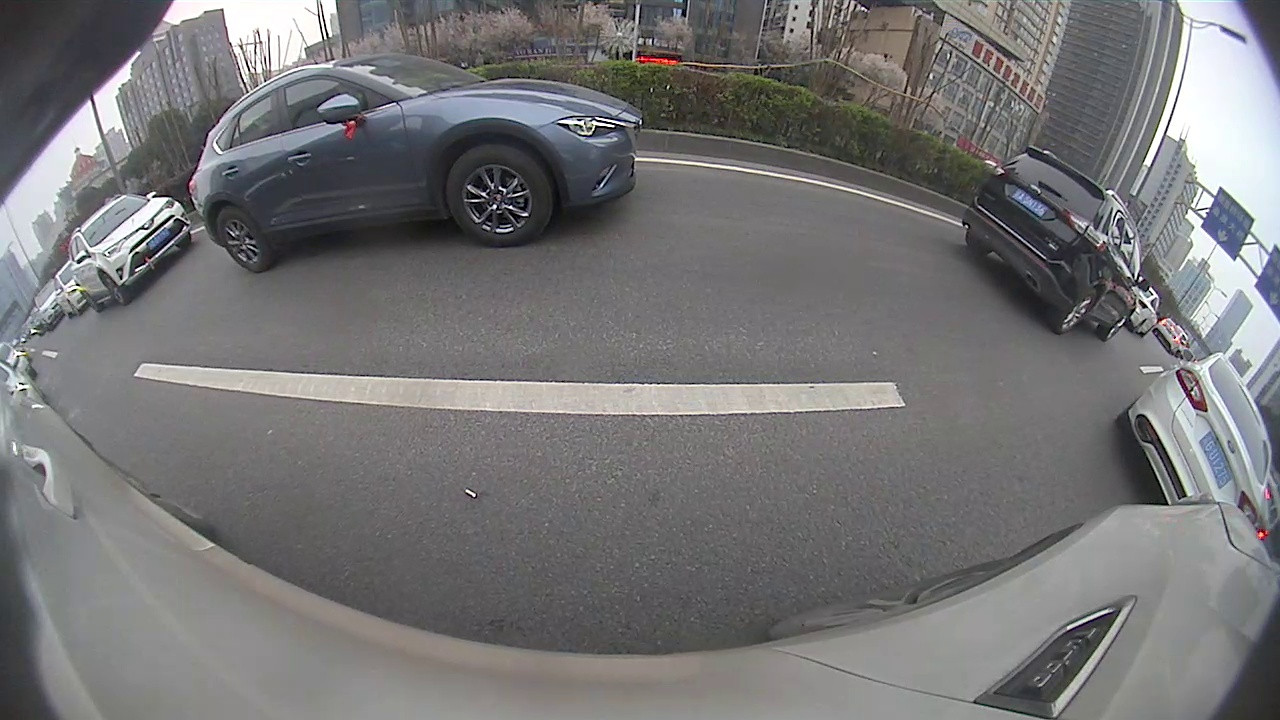car: (187, 60, 645, 273), (961, 144, 1150, 343), (1114, 351, 1271, 537), (69, 191, 199, 311)
front: (446, 148, 555, 247), (98, 271, 125, 307), (1106, 310, 1132, 341)
rear: (213, 205, 263, 272), (1054, 287, 1103, 332)
